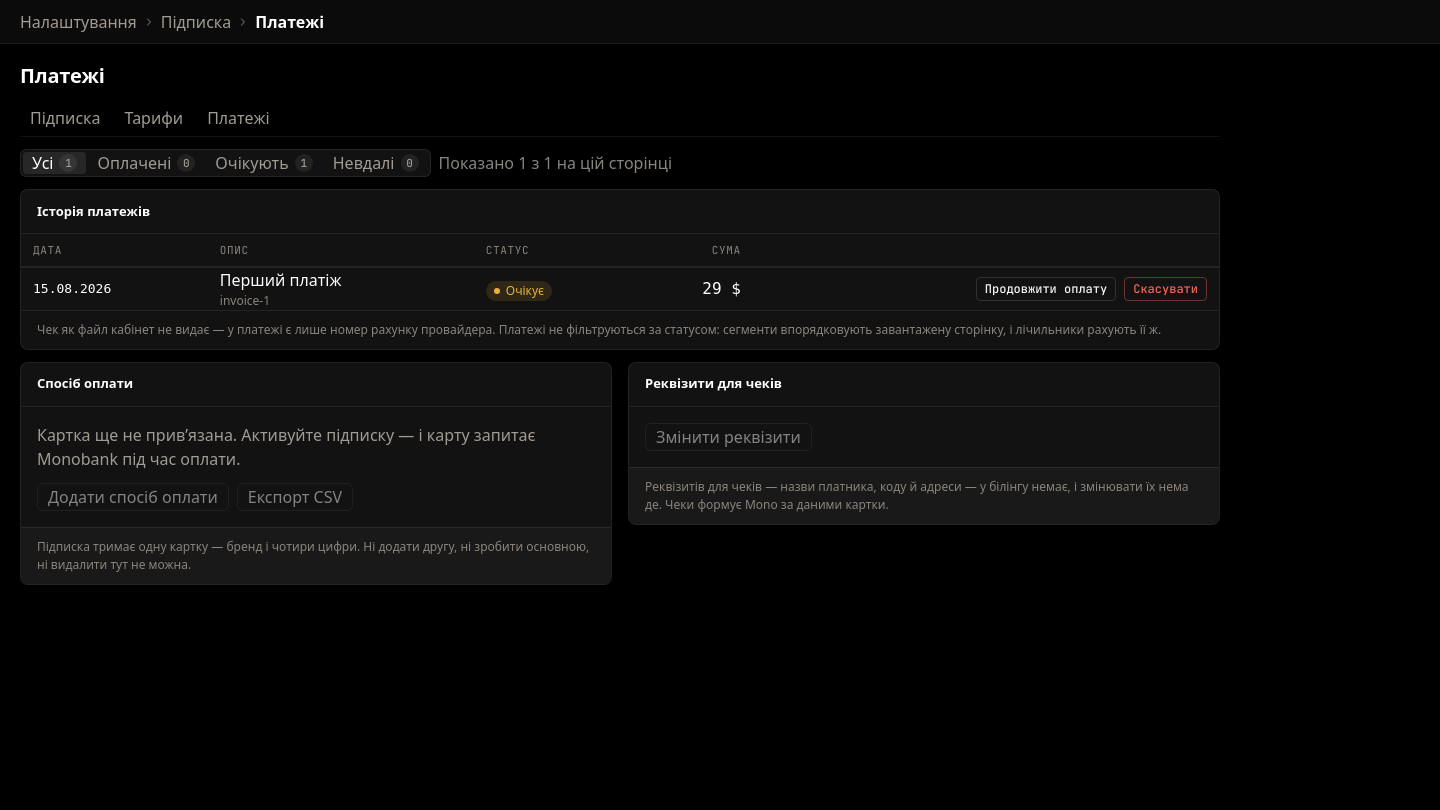
it: prevents pending Mono checkout navigation after provider management changes
Click the link "Продовжити оплату": (1046, 288) [976,276,1116,300]
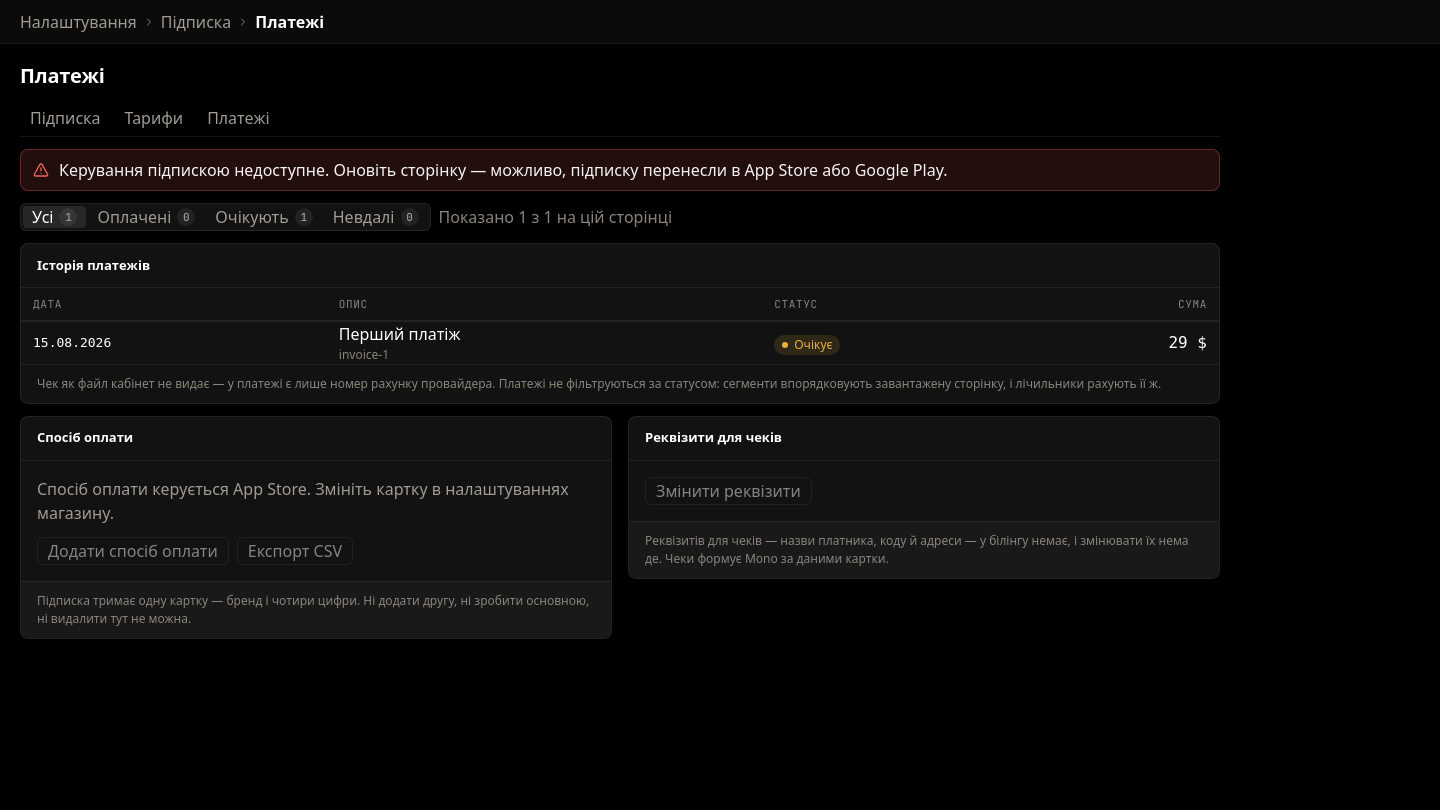
expect the message shows "Керування підпискою недоступне.": met, box [59,159,948,181]
